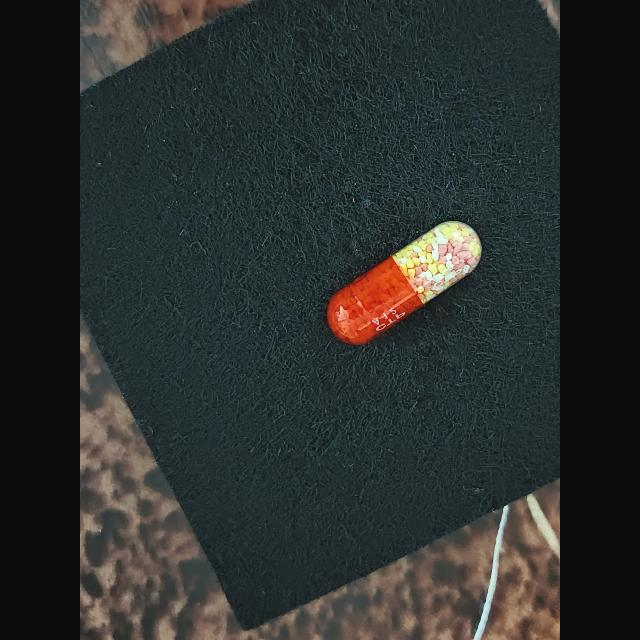Intact Capsule: (327, 221, 482, 345)
